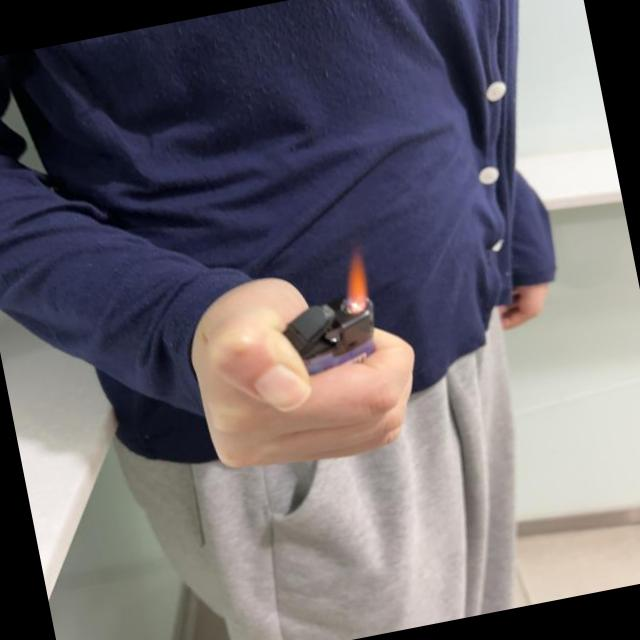Fire: (338, 247, 374, 314)
